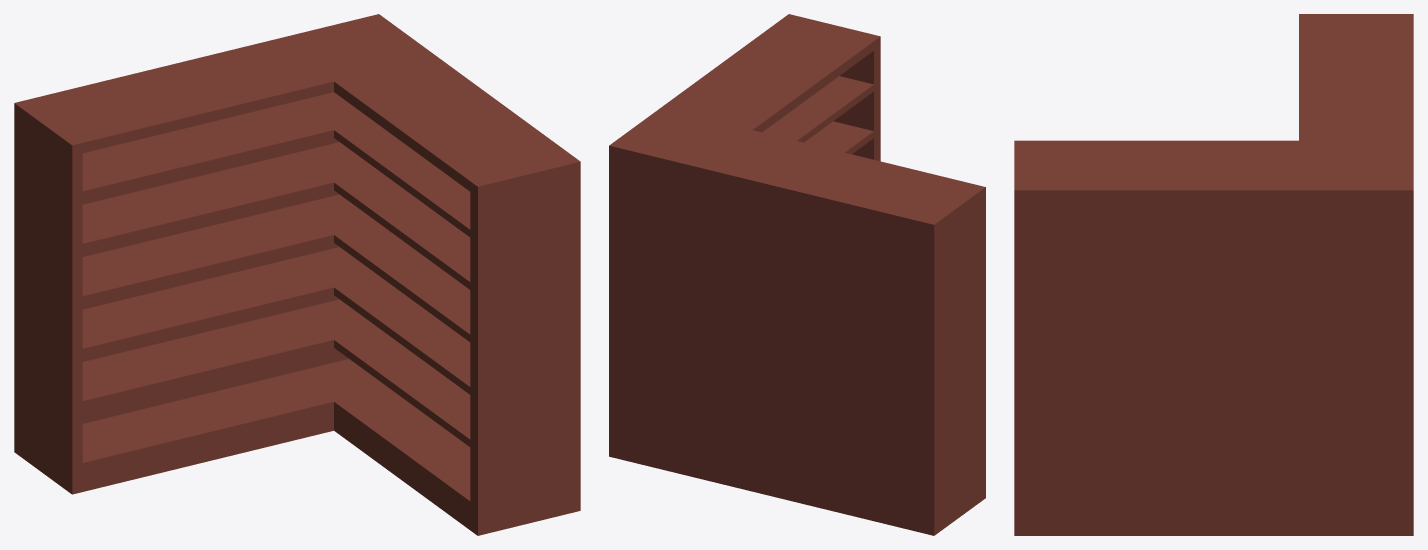
File: l_shaped_bookshelf.glb
3 renders of one model, left to right at view 1: azimuth 30°, elevation 25°; view 2: azimuth 150°, elevation 25°; view 3: azimuth 270°, elevation 25°, orthographic. The views are drawn at different scales.
Parts seen in each view (by area): view 1: L_Shaped_Bookshelf; view 2: L_Shaped_Bookshelf; view 3: L_Shaped_Bookshelf.
Boxes of the visible parts, x1,y1,x2,y2 form: L_Shaped_Bookshelf: [14, 14, 580, 535]; L_Shaped_Bookshelf: [609, 14, 985, 535]; L_Shaped_Bookshelf: [1014, 14, 1413, 535].
Size of the model in its own units: 2.88 by 2.63 by 2.76.
Materials: 1 (1 with a texture image).
